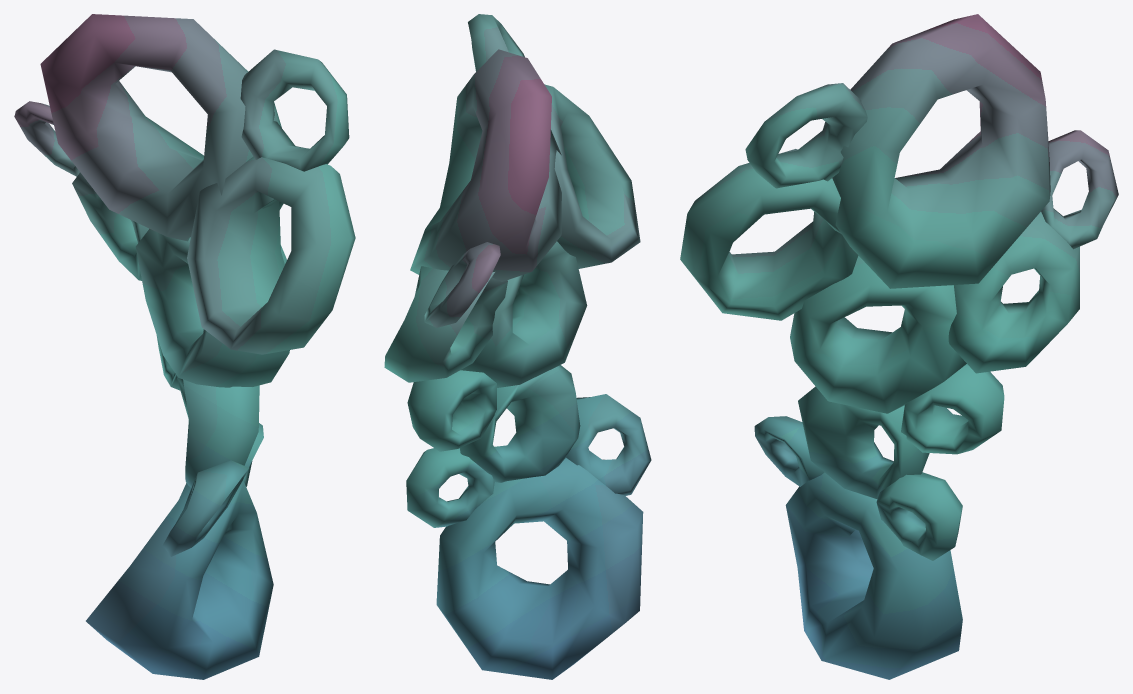
File: model_coral_02.fbx
3 renders of one model, left to right at view 1: azimuth 30°, elevation 25°; view 2: azimuth 150°, elevation 25°; view 3: azimuth 270°, elevation 25°, orthographic. The views are drawn at different scales.
Visible parts, largest first — view 1: coral_02_geo; view 2: coral_02_geo; view 3: coral_02_geo.
Part boxes in pixels (x1,y1,x2,y2): coral_02_geo: [14, 14, 355, 679]; coral_02_geo: [384, 14, 651, 679]; coral_02_geo: [680, 14, 1118, 679].
Size of the model in its own units: 7.45 by 21.77 by 13.77.
